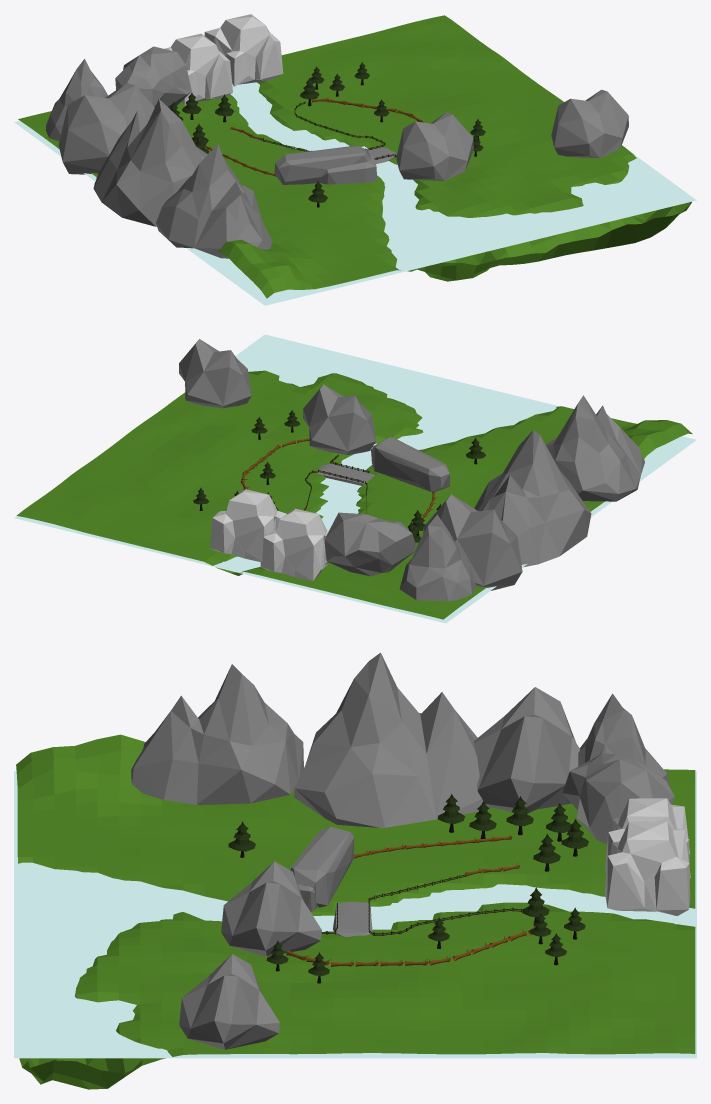
Rendered from 岛part1.obj.
The picture shows the model from 3 angles, top to bottom: view 1: azimuth 30°, elevation 25°; view 2: azimuth 150°, elevation 25°; view 3: azimuth 270°, elevation 25°; orthographic projection. The views are drawn at different scales.
Bounding box in the file's own units: 297 × 88.52 × 281.
